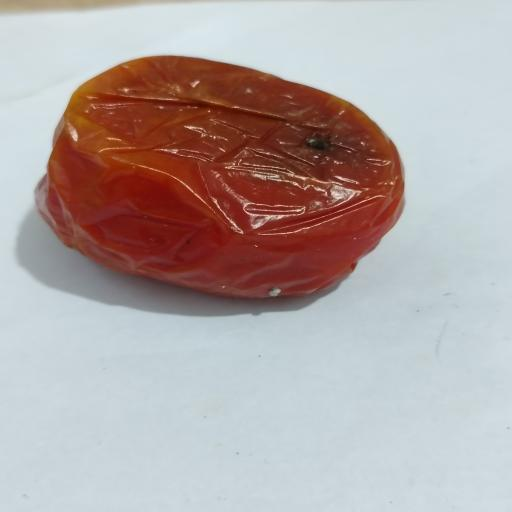spoiled: (36, 56, 404, 298)
